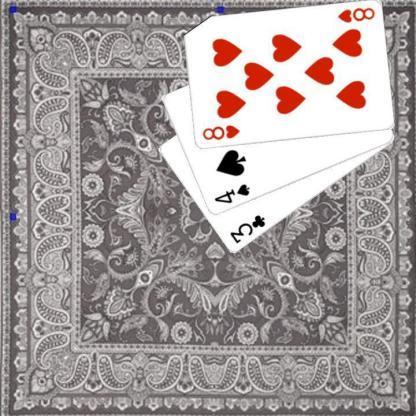3C: (227, 212, 266, 246)
4S: (211, 182, 251, 205)
8H: (200, 122, 241, 141), (335, 5, 376, 24)
